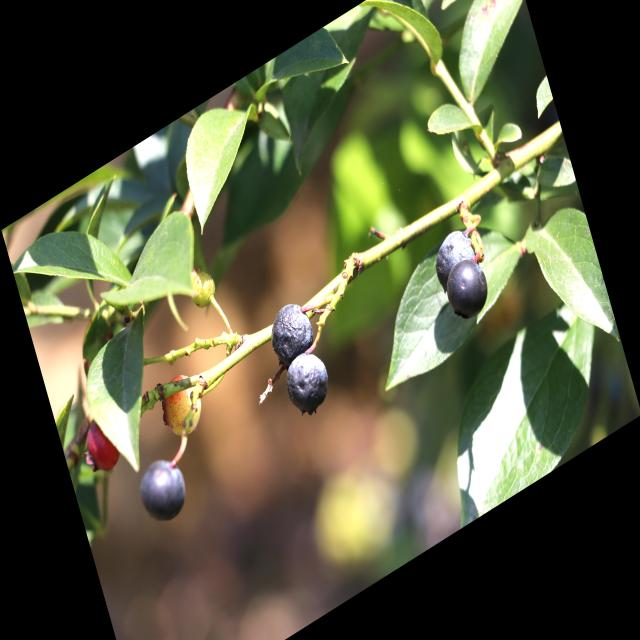blueberry: (132, 443, 194, 534), (260, 298, 316, 374), (439, 248, 493, 326), (280, 344, 332, 422), (427, 220, 481, 289)
blueberry-halfripe: (156, 364, 208, 444), (78, 409, 124, 482)
